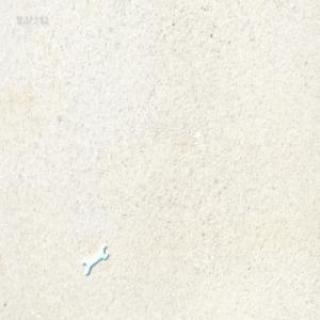Wrenchtrack_idkeyframe: (81, 244, 108, 274)
